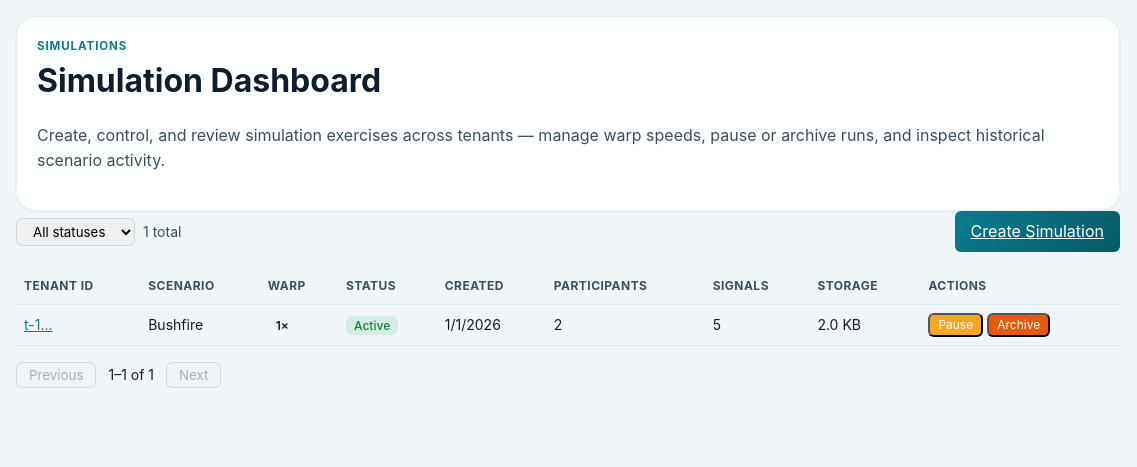
it: SimulationListPage › surfaces lifecycle action failures
The width and height of the screenshot is (1137, 467).
Click the button "Pause" at (956, 325), box [928, 313, 983, 337]
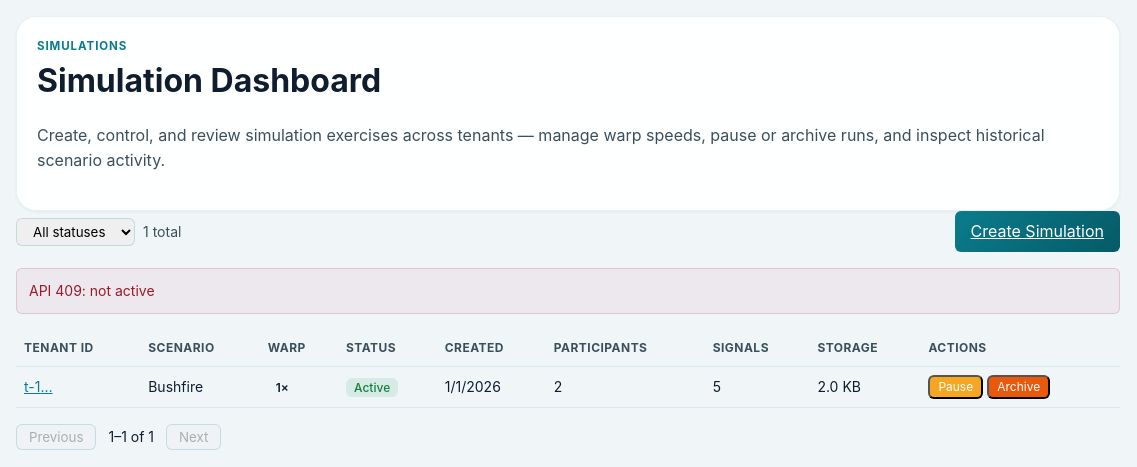
Expected: the message with test id "sim-action-error" reads "API 409: not active", [29, 282, 155, 299]
